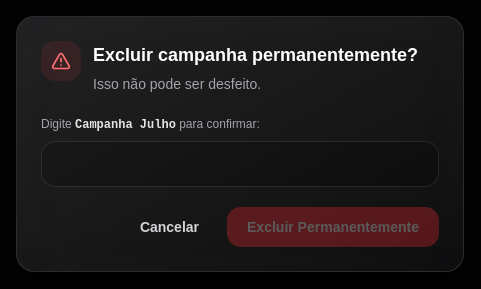
Test: TypeToConfirmDialog › libera com o nome exato
Type "Campanha Julho" into the field labelled "Digite Campanha Julho para confirmar:".
click(240, 164); type("Campanha Julho")  # box [41,141,439,187]
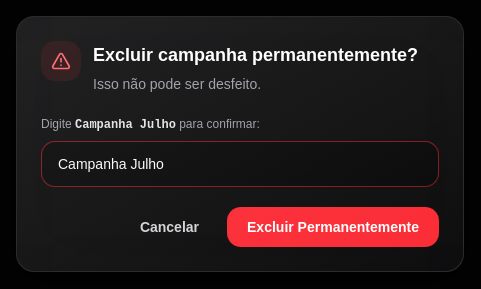
Result: the button "Excluir Permanentemente" is enabled at [227,207,439,247]
